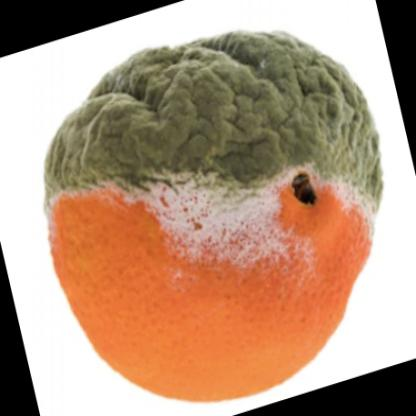rotten_orange: (37, 23, 381, 410)
